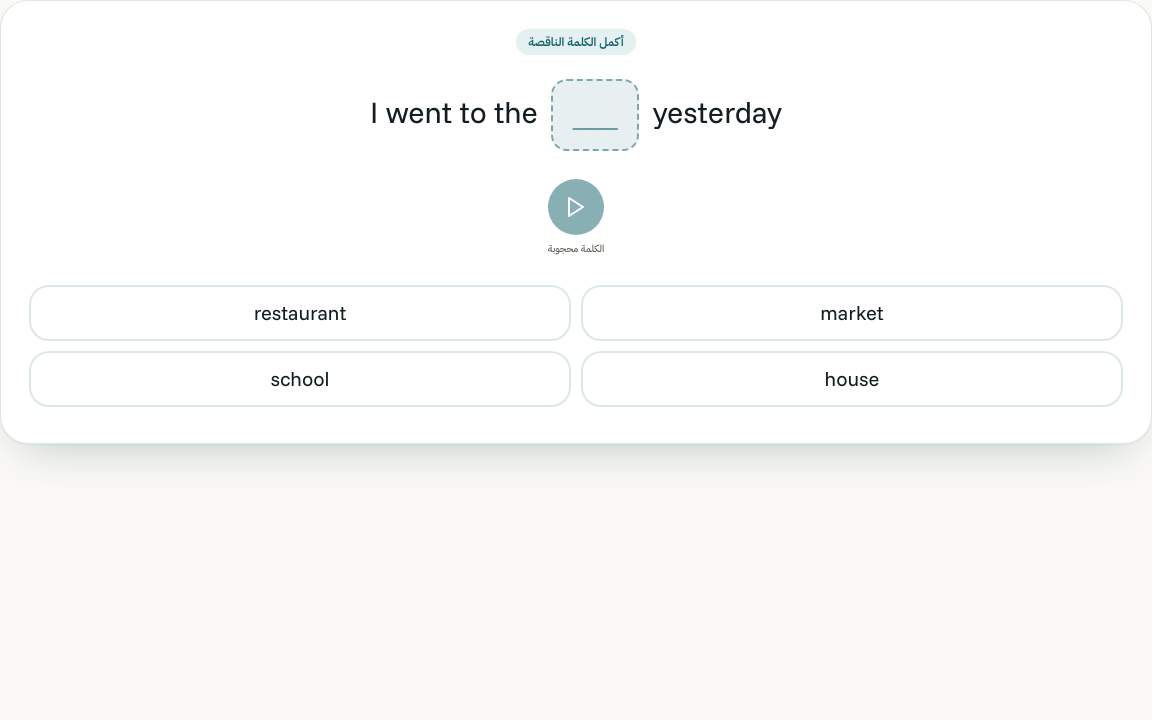
Scenario: answering › gives the word and its meaning afterwards
This screenshot has width=1152, height=720.
Click the button "market".
click(852, 313)  # box [581, 285, 1123, 341]
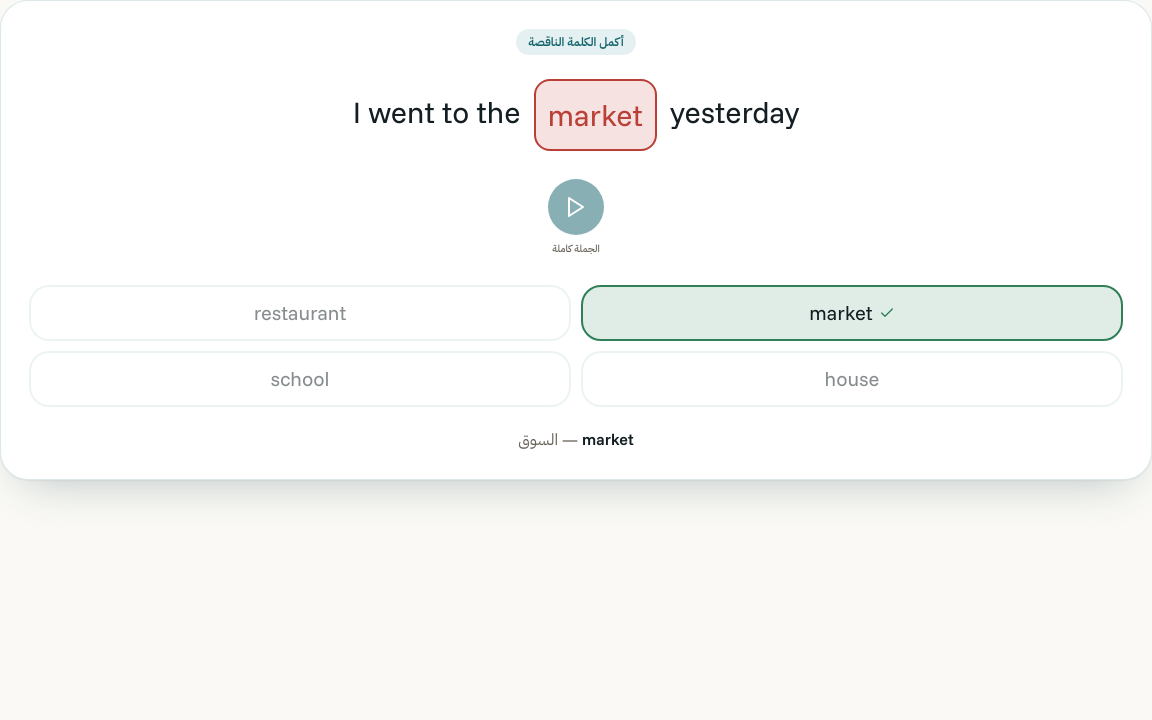
Check: the text "— السوق" is shown, box [518, 429, 582, 449]
